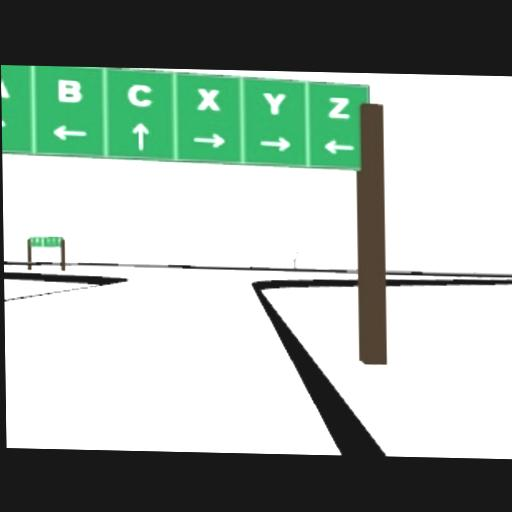A: (1, 74, 9, 97)
B: (57, 76, 81, 101)
C: (126, 82, 153, 106)
Left: (52, 123, 88, 140), (323, 137, 355, 152)
Right: (192, 131, 226, 148), (259, 136, 291, 150)
Straight: (131, 120, 149, 150)
X: (196, 86, 221, 109)
Y: (262, 90, 285, 114)
Z: (327, 96, 350, 117)
